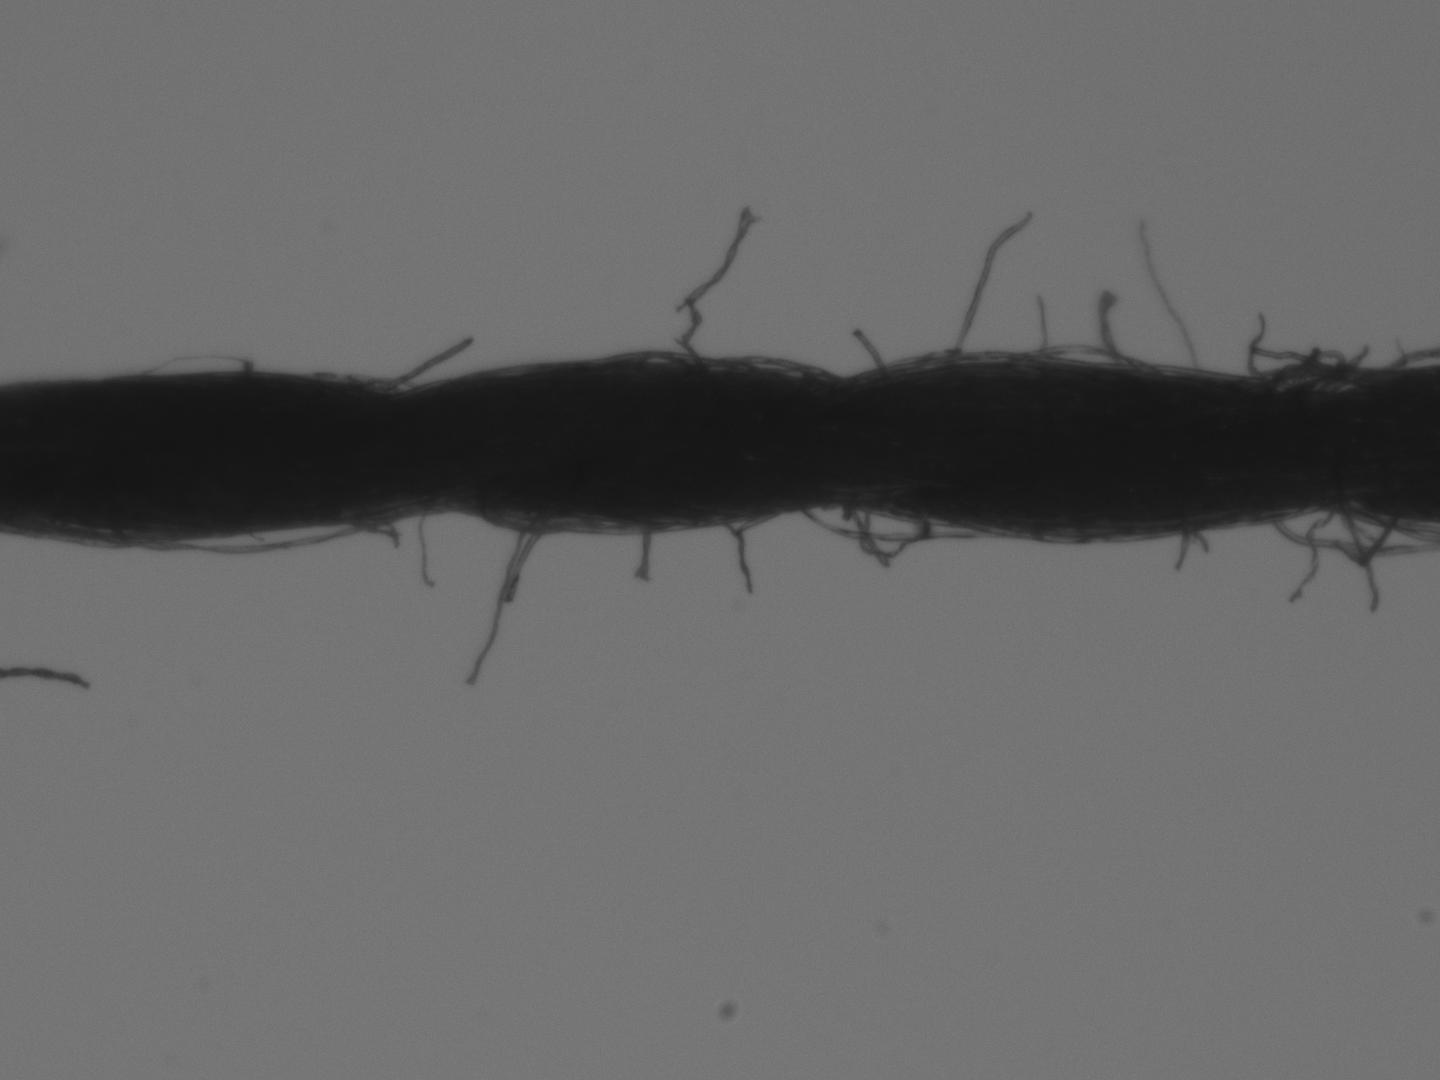loop_fiber: (116, 517, 376, 557), (796, 499, 1001, 546), (1263, 501, 1433, 556), (1244, 344, 1395, 391), (1023, 339, 1147, 370), (859, 505, 929, 559), (308, 366, 414, 390), (607, 346, 692, 366)
protruding_fiber: (954, 205, 1037, 354), (680, 206, 757, 364), (467, 520, 537, 686), (383, 331, 473, 385), (1288, 508, 1328, 601), (853, 327, 882, 377), (1170, 526, 1193, 577), (1036, 293, 1050, 357), (418, 514, 430, 589), (639, 521, 650, 585)
